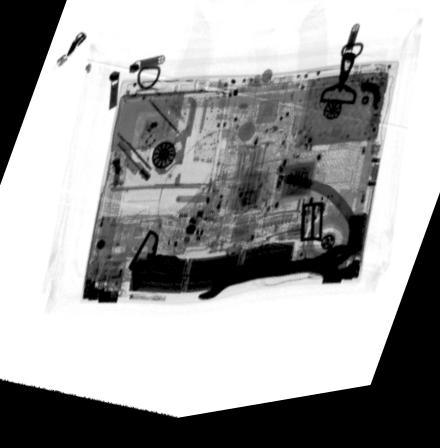Wrench: (194, 255, 351, 308)
